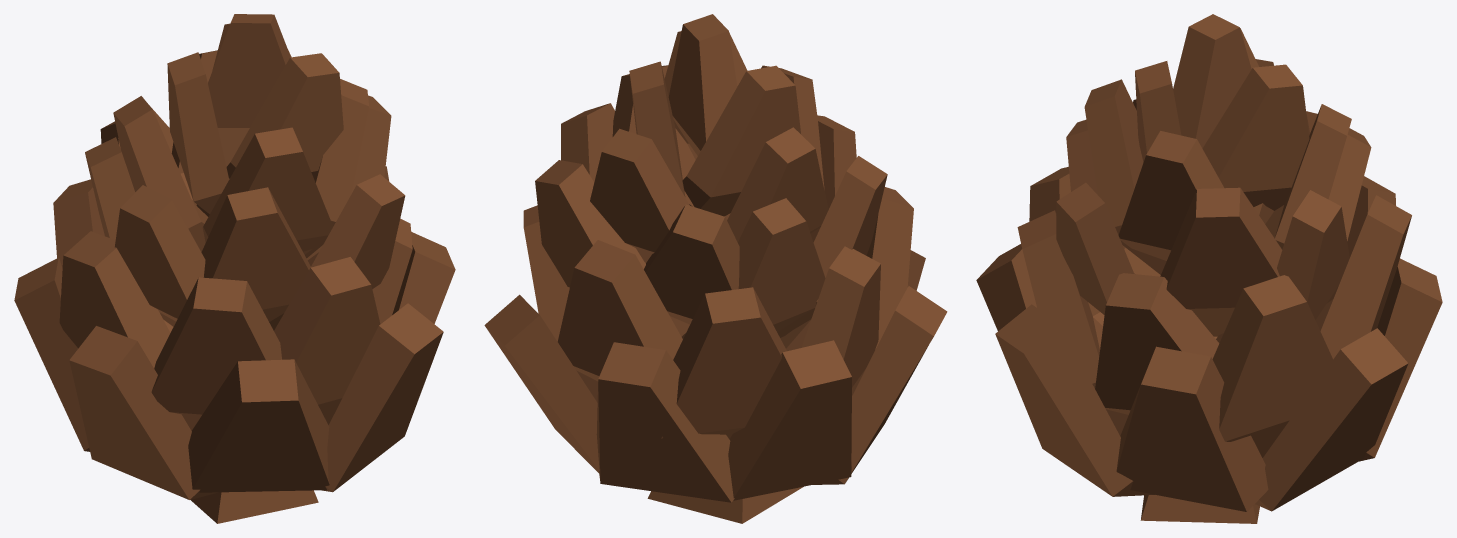
Rendered from pine_cone.fbx.
3 views of the same model, side by side, from view 1: azimuth 30°, elevation 25°; view 2: azimuth 150°, elevation 25°; view 3: azimuth 270°, elevation 25° (orthographic). The views are drawn at different scales.
Parts seen in each view (by area): view 1: pine_cone; view 2: pine_cone; view 3: pine_cone.
Part boxes in pixels (box(x1,y1,x2,y2)): pine_cone: box(14, 14, 455, 523); pine_cone: box(484, 14, 947, 523); pine_cone: box(976, 14, 1442, 523).
Size of the model in its own units: 1.22 by 1.39 by 1.21.
